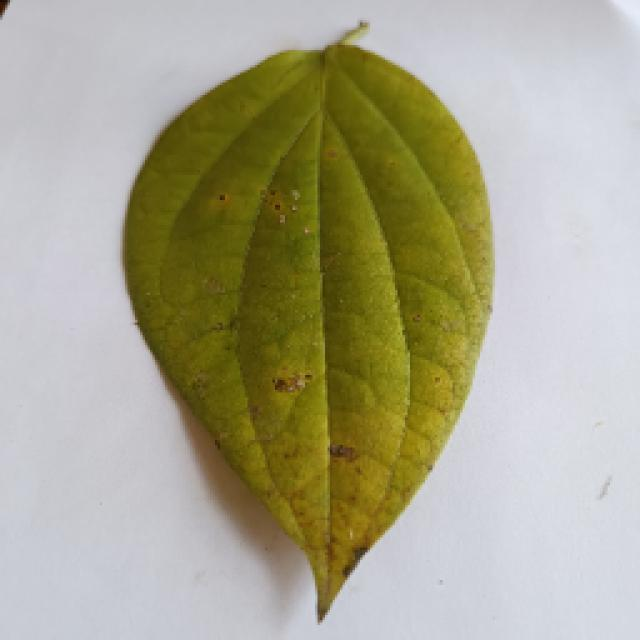slow-decline: (80, 28, 518, 622)
